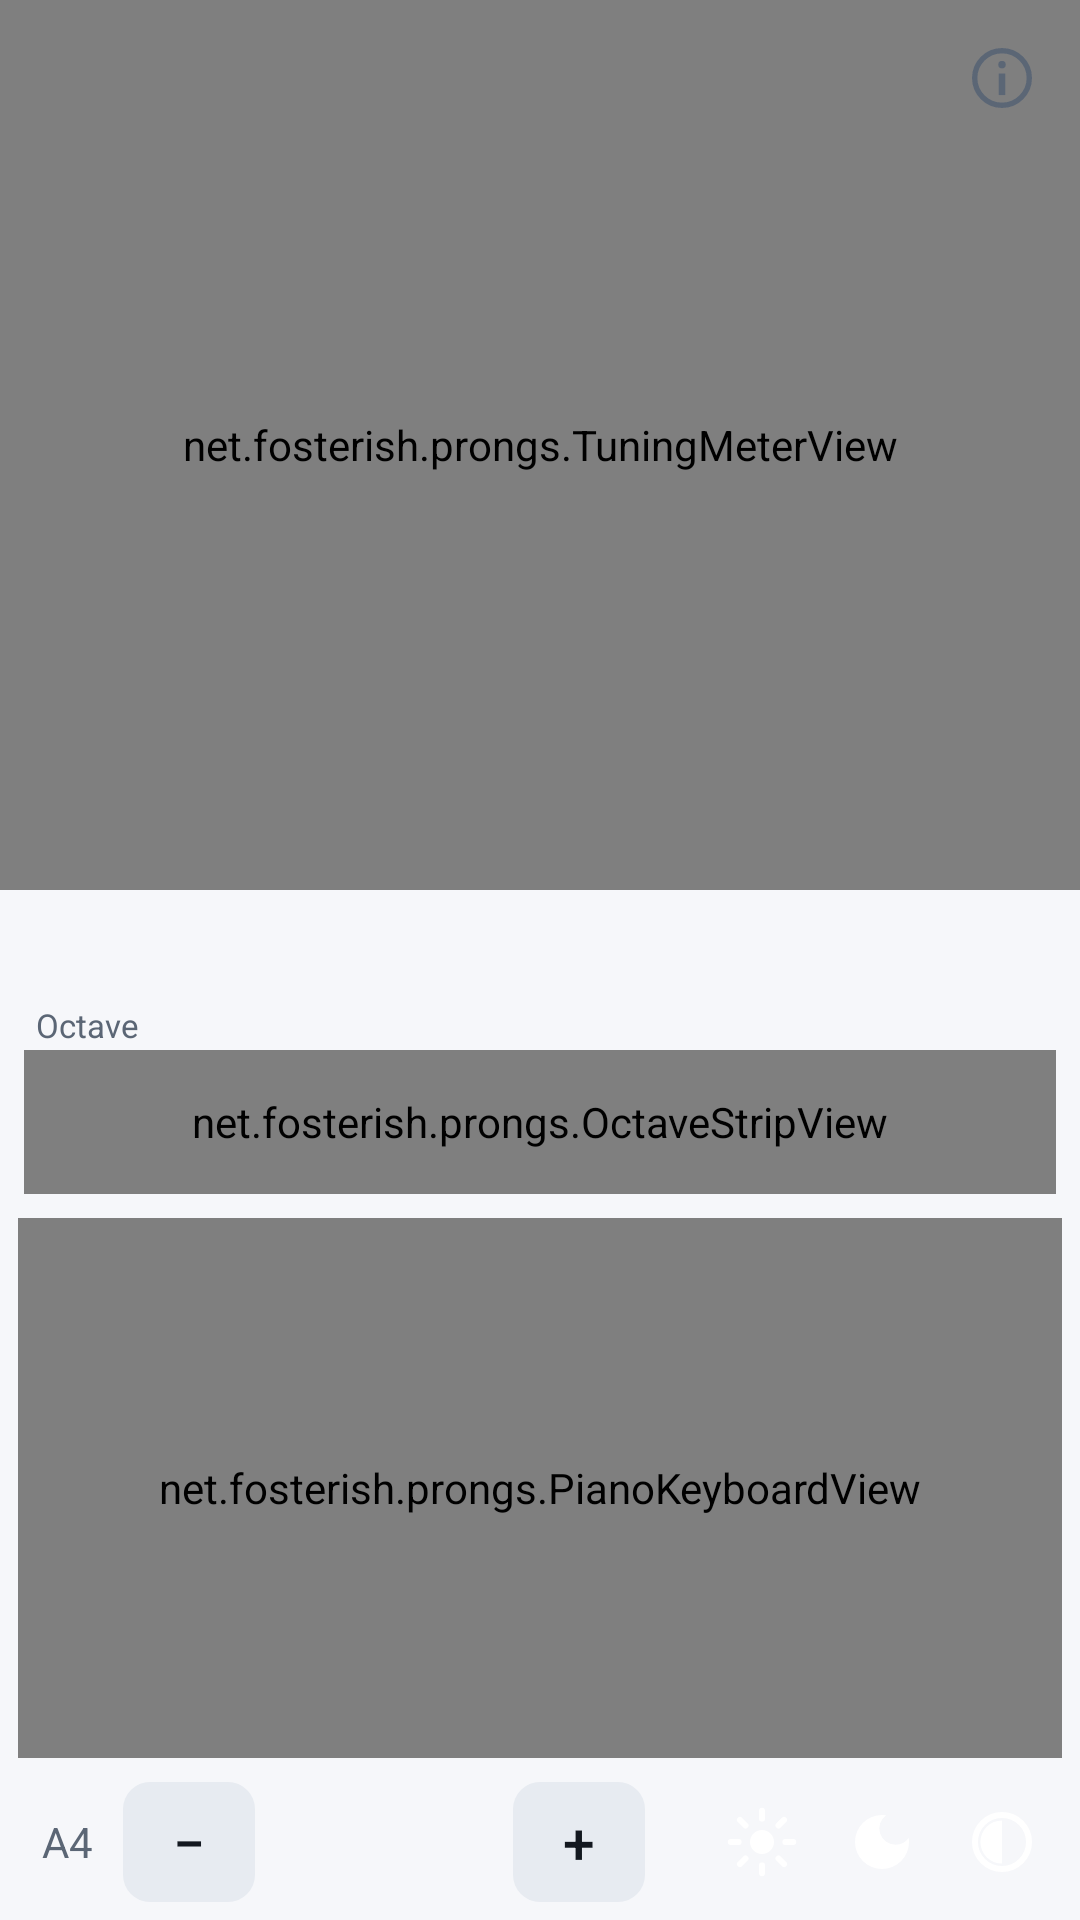

Point at icon controls on the screen. Image size 1080px x 1920px, points as (x=x, y=y).
About Prongs: (x=1002, y=78)
